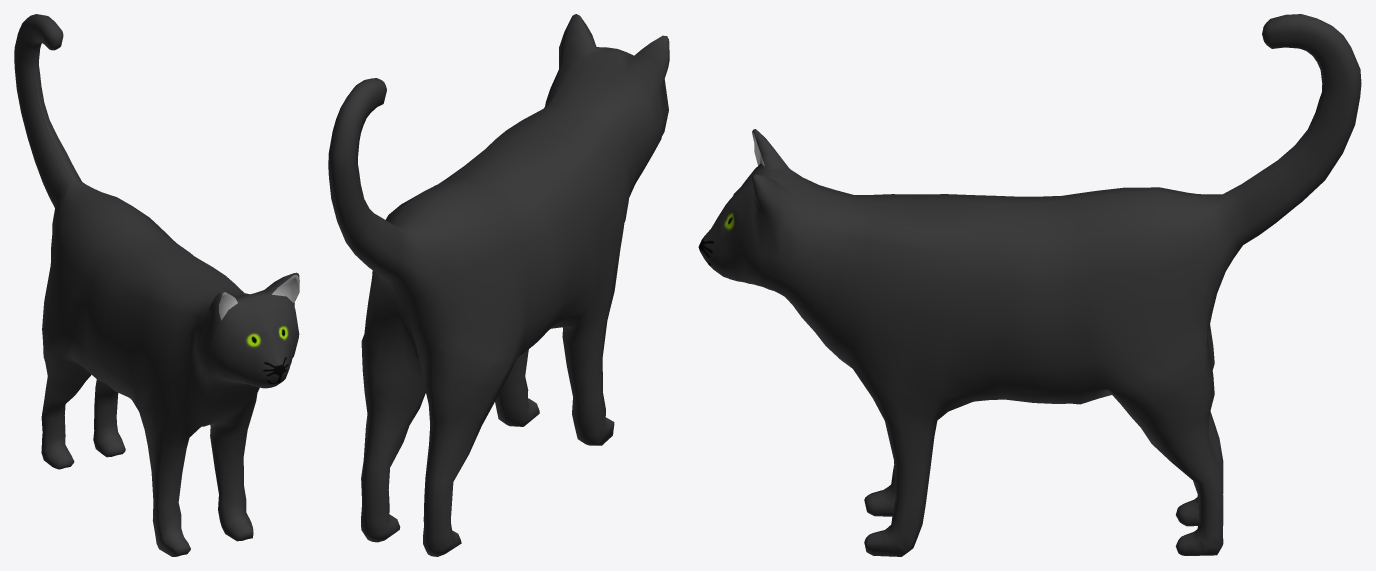
File: cat.fbx
The picture shows the model from 3 angles, left to right: view 1: azimuth 30°, elevation 25°; view 2: azimuth 150°, elevation 25°; view 3: azimuth 270°, elevation 25°; orthographic projection. The views are drawn at different scales.
Visible parts, largest first — view 1: cat; view 2: cat; view 3: cat.
Boxes of the visible parts, <box> form: cat: <box>14,14,299,556</box>; cat: <box>328,14,669,556</box>; cat: <box>698,14,1361,556</box>.
Bounding box in the file's own units: 37.14 × 127 × 146.
